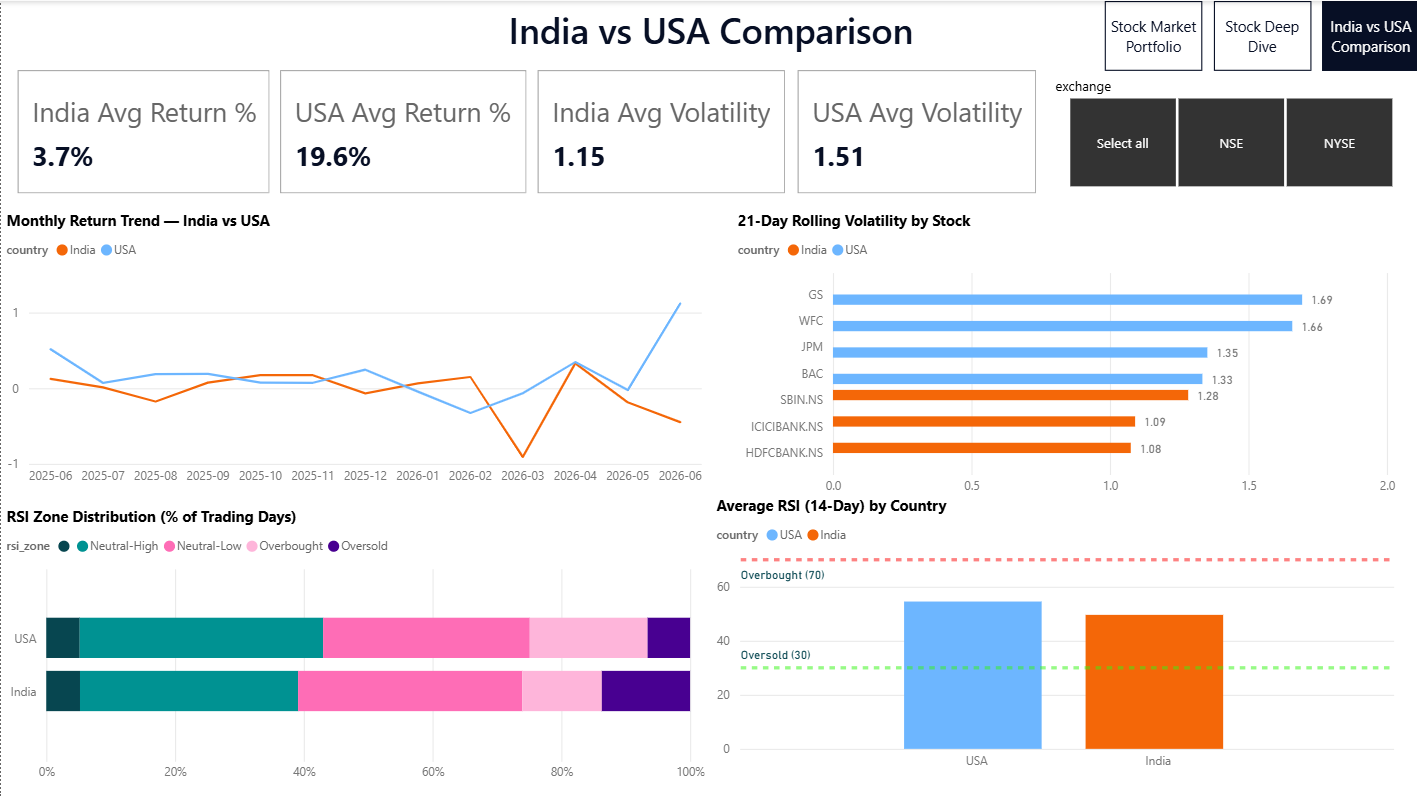

Layout of this report page (visuals, bound fields, positions):
{"tool":"powerbi","page":{"name":"India vs USA Comparison","canvas":[1280,720],"ordinal":2},"visuals":[{"type":"cardVisual","fields":{"Data":["stock_prices.India Avg Return %"]},"box":[9.8,57.5,237.2,121.1],"z":0},{"type":"cardVisual","fields":{"Data":["stock_prices.USA Avg Return %"]},"box":[247,57.5,232.3,121.1],"z":1000},{"type":"cardVisual","fields":{"Data":["stock_prices.USA Avg Volatility"]},"box":[712.9,57.5,225,121.1],"z":2000},{"type":"slicer","fields":{"Values":["stock_prices.exchange"]},"box":[937.9,63.6,341.2,111.3],"z":3000},{"type":"cardVisual","fields":{"Data":["stock_prices.India Avg Volatility"]},"box":[479.4,57.5,233.6,121.1],"z":4000},{"type":"lineChart","title":"Monthly Return Trend — India vs USA","fields":{"Category":["stock_prices.Month"],"Y":["Avg(stock_prices.daily_return_pct)"],"Series":["stock_prices.country"]},"box":[0,188.3,639.5,256.8],"z":5000},{"type":"clusteredBarChart","title":"21-Day Rolling Volatility by Stock","fields":{"Category":["stock_prices.ticker"],"Y":["Avg(stock_prices.volatility_21)"],"Series":["stock_prices.country"]},"box":[659.1,188.3,621.2,265.4],"z":6000},{"type":"hundredPercentStackedBarChart","title":"RSI Zone Distribution (% of Trading Days)","fields":{"Category":["stock_prices.country"],"Y":["CountNonNull(stock_prices.rsi_zone)"],"Series":["stock_prices.rsi_zone"]},"box":[0,454.9,639.5,256.8],"z":7000},{"type":"columnChart","title":"Average RSI (14-Day) by Country","fields":{"Category":["stock_prices.country"],"Y":["Avg(stock_prices.rsi_14)"],"Series":["stock_prices.country"]},"box":[640.8,445.1,621.2,256.8],"z":8000},{"type":"textbox","box":[0,0,1280.3,62.4],"z":9000},{"type":"pageNavigator","box":[995.4,0,284.9,63.6],"z":9001}]}

Visuals, with their boxes in screenshot pixels (x1, y1, x2, y2), scaled from the page's 1280x720 canvas onto the 1417x797 screenshot:
cardVisual - stock_prices.India Avg Return %: {"left": 11, "top": 64, "right": 273, "bottom": 198}
cardVisual - stock_prices.USA Avg Return %: {"left": 273, "top": 64, "right": 531, "bottom": 198}
cardVisual - stock_prices.USA Avg Volatility: {"left": 789, "top": 64, "right": 1038, "bottom": 198}
slicer - stock_prices.exchange: {"left": 1038, "top": 70, "right": 1416, "bottom": 194}
cardVisual - stock_prices.India Avg Volatility: {"left": 531, "top": 64, "right": 789, "bottom": 198}
"Monthly Return Trend — India vs USA" lineChart: {"left": 0, "top": 208, "right": 708, "bottom": 493}
"21-Day Rolling Volatility by Stock" clusteredBarChart: {"left": 730, "top": 208, "right": 1416, "bottom": 502}
"RSI Zone Distribution (% of Trading Days)" hundredPercentStackedBarChart: {"left": 0, "top": 504, "right": 708, "bottom": 788}
"Average RSI (14-Day) by Country" columnChart: {"left": 709, "top": 493, "right": 1397, "bottom": 777}
textbox: {"left": 0, "top": 0, "right": 1416, "bottom": 69}
pageNavigator: {"left": 1102, "top": 0, "right": 1416, "bottom": 70}
